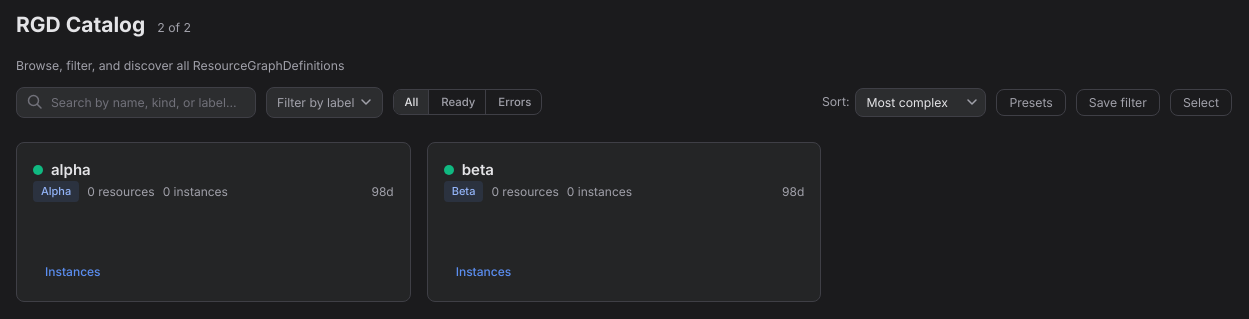
Test case: Catalog › shows all RGDs when search is cleared
Expected: the element with test id "catalog-card-alpha" is shown, top-left (16, 142), bottom-right (411, 302)
Step 1. Type "alpha" into the search field → (153, 102), box top-left (51, 88), bottom-right (255, 117)
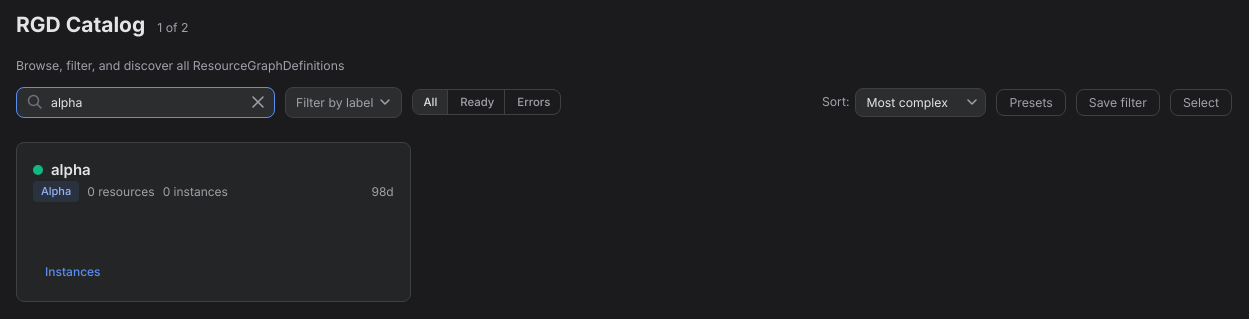
Now the element with test id "catalog-card-beta" is gone
Clear button should appear
Step 2. Click the button named "Clear search" → (258, 102), box top-left (244, 88), bottom-right (272, 116)
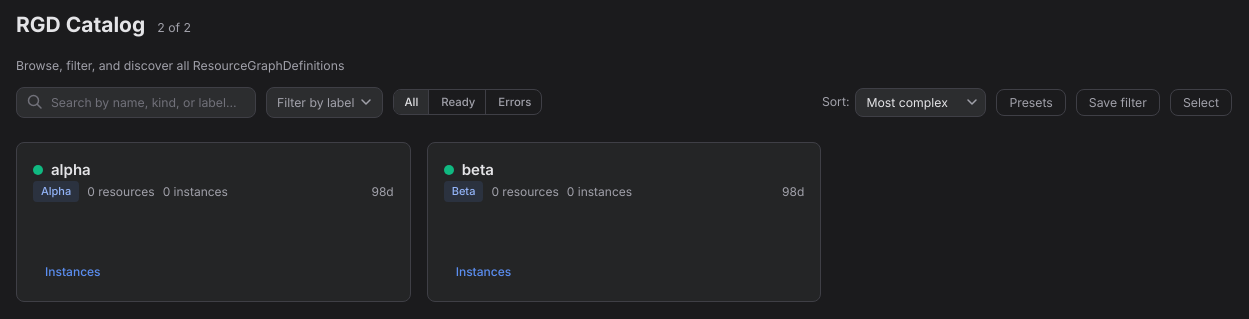
Expected: the element with test id "catalog-card-alpha" is shown, top-left (16, 142), bottom-right (411, 302)
Now the element with test id "catalog-card-beta" is shown, box top-left (427, 142), bottom-right (821, 302)
